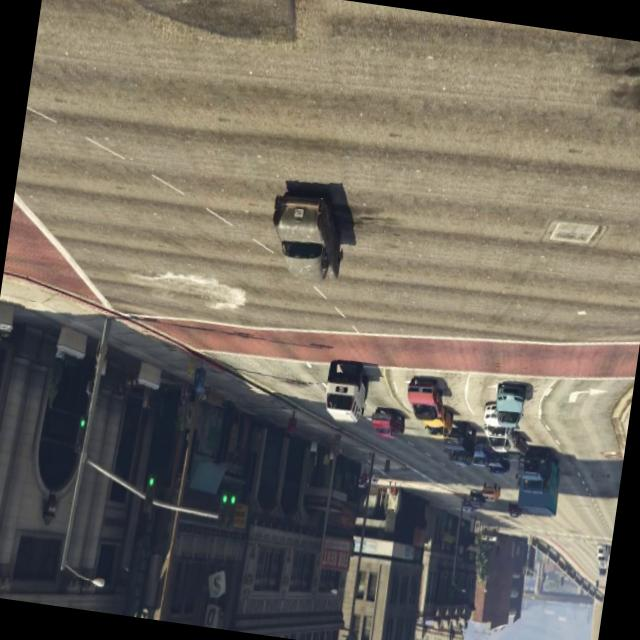Green-Signal: (208, 470, 248, 541), (66, 395, 95, 465), (137, 461, 163, 524)
